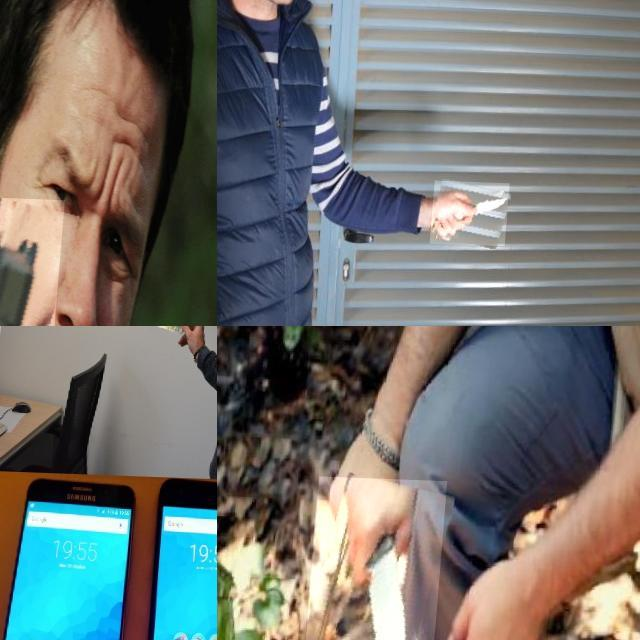-: (310, 474, 451, 640), (436, 178, 515, 244)
